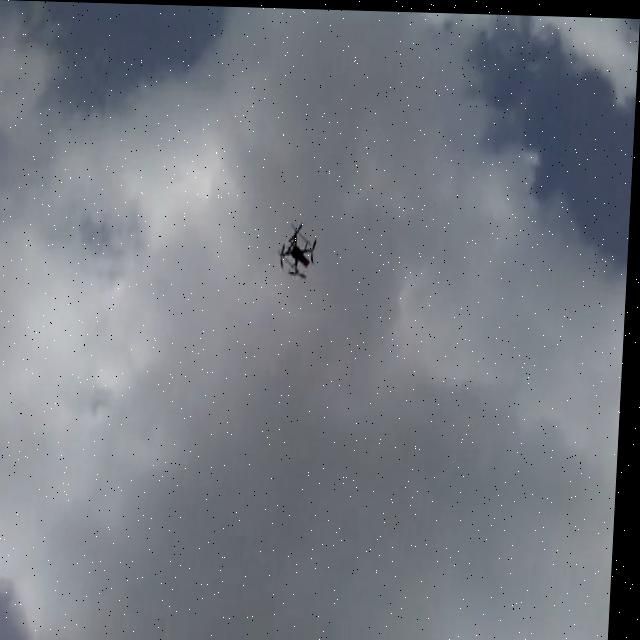drone: (278, 218, 326, 285)
